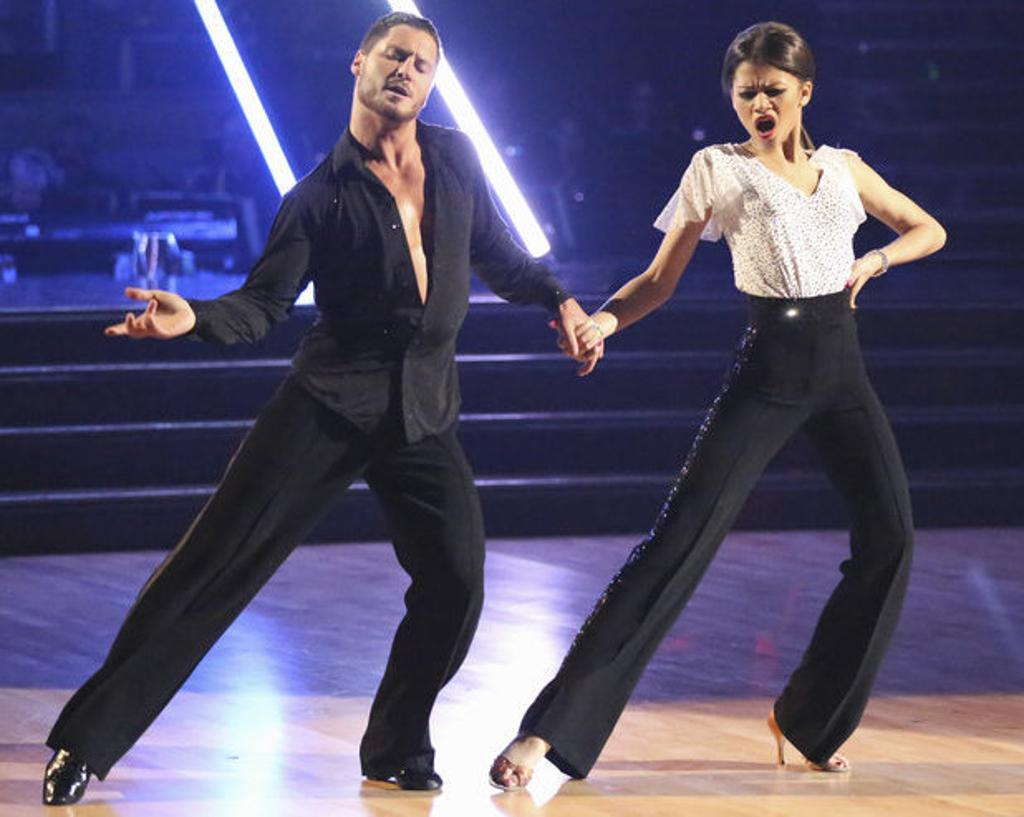face: (358, 22, 432, 118), (730, 60, 804, 144)
